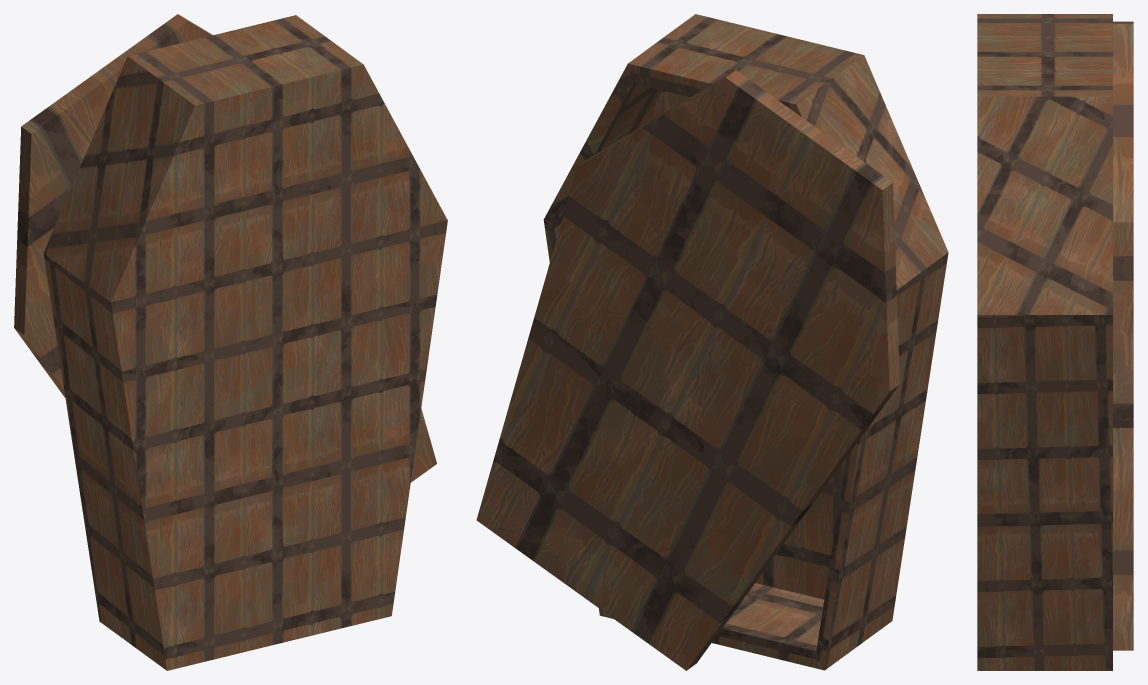
The model's file is coffin open.fbx.
The picture shows the model from 3 angles, left to right: view 1: azimuth 30°, elevation 25°; view 2: azimuth 150°, elevation 25°; view 3: azimuth 270°, elevation 25°; orthographic projection.
Parts seen in each view (by area): view 1: Plane, Plane.001; view 2: Plane.001, Plane; view 3: Plane, Plane.001.
Boxes of the visible parts, <box> form: Plane: <box>43,15,447,670</box>; Plane.001: <box>14,14,436,482</box>; Plane.001: <box>476,70,899,670</box>; Plane: <box>543,14,948,670</box>; Plane: <box>977,14,1112,670</box>; Plane.001: <box>1113,21,1133,650</box>.
Bounding box in the file's own units: 147 × 205 × 48.08.
